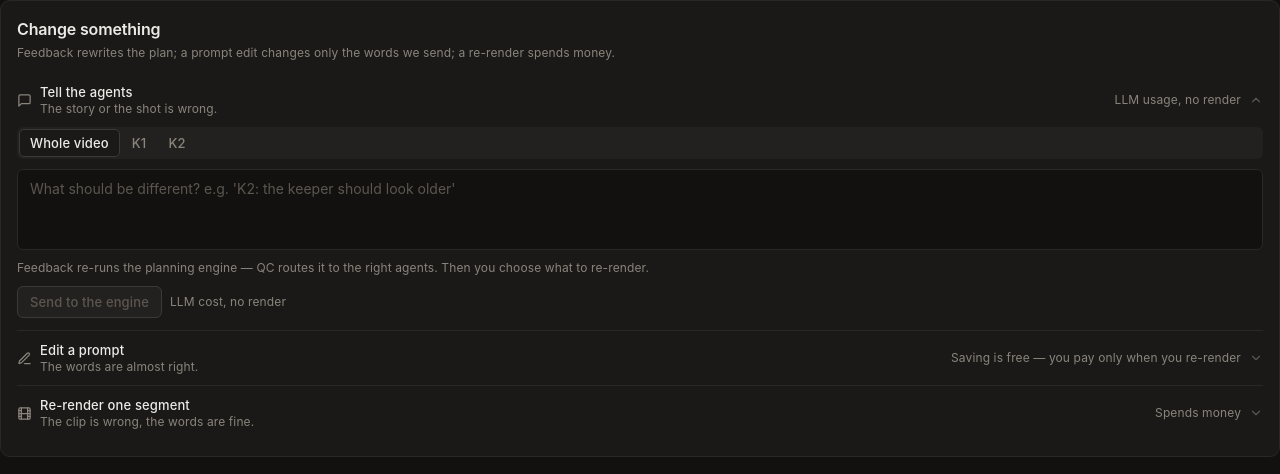
ChangeRequestPanel › one row is open at a time, and the prompt row spends nothing
The image size is (1280, 474).
Click the button "Edit a prompt" at (82, 350), box [17,331,1263,385]
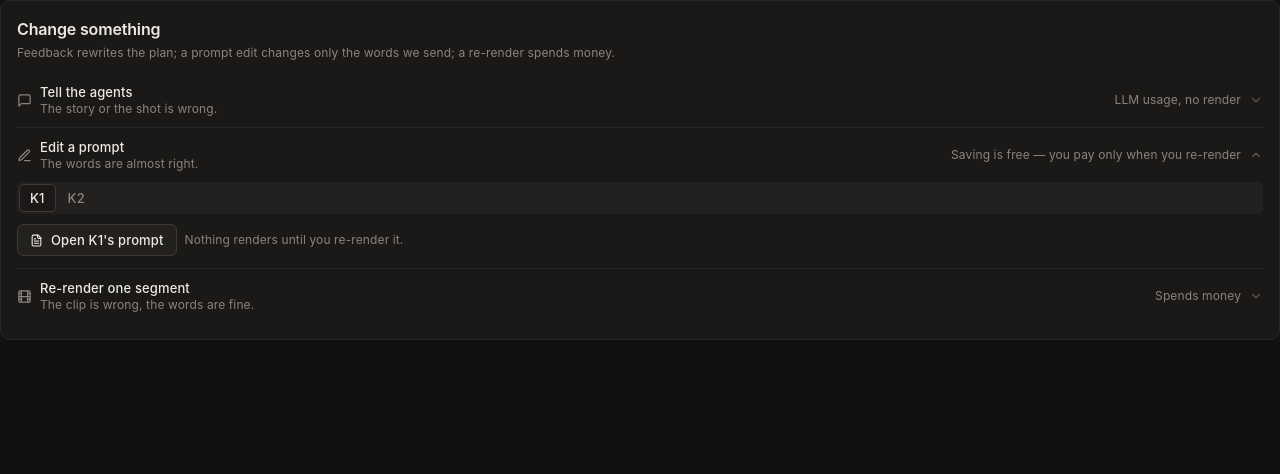
Expected: the text "Saving is free — you pay only when you re-render" is shown, [951,147,1241,163]
Now the button "Open K1's prompt" is shown, box [17,224,176,256]
